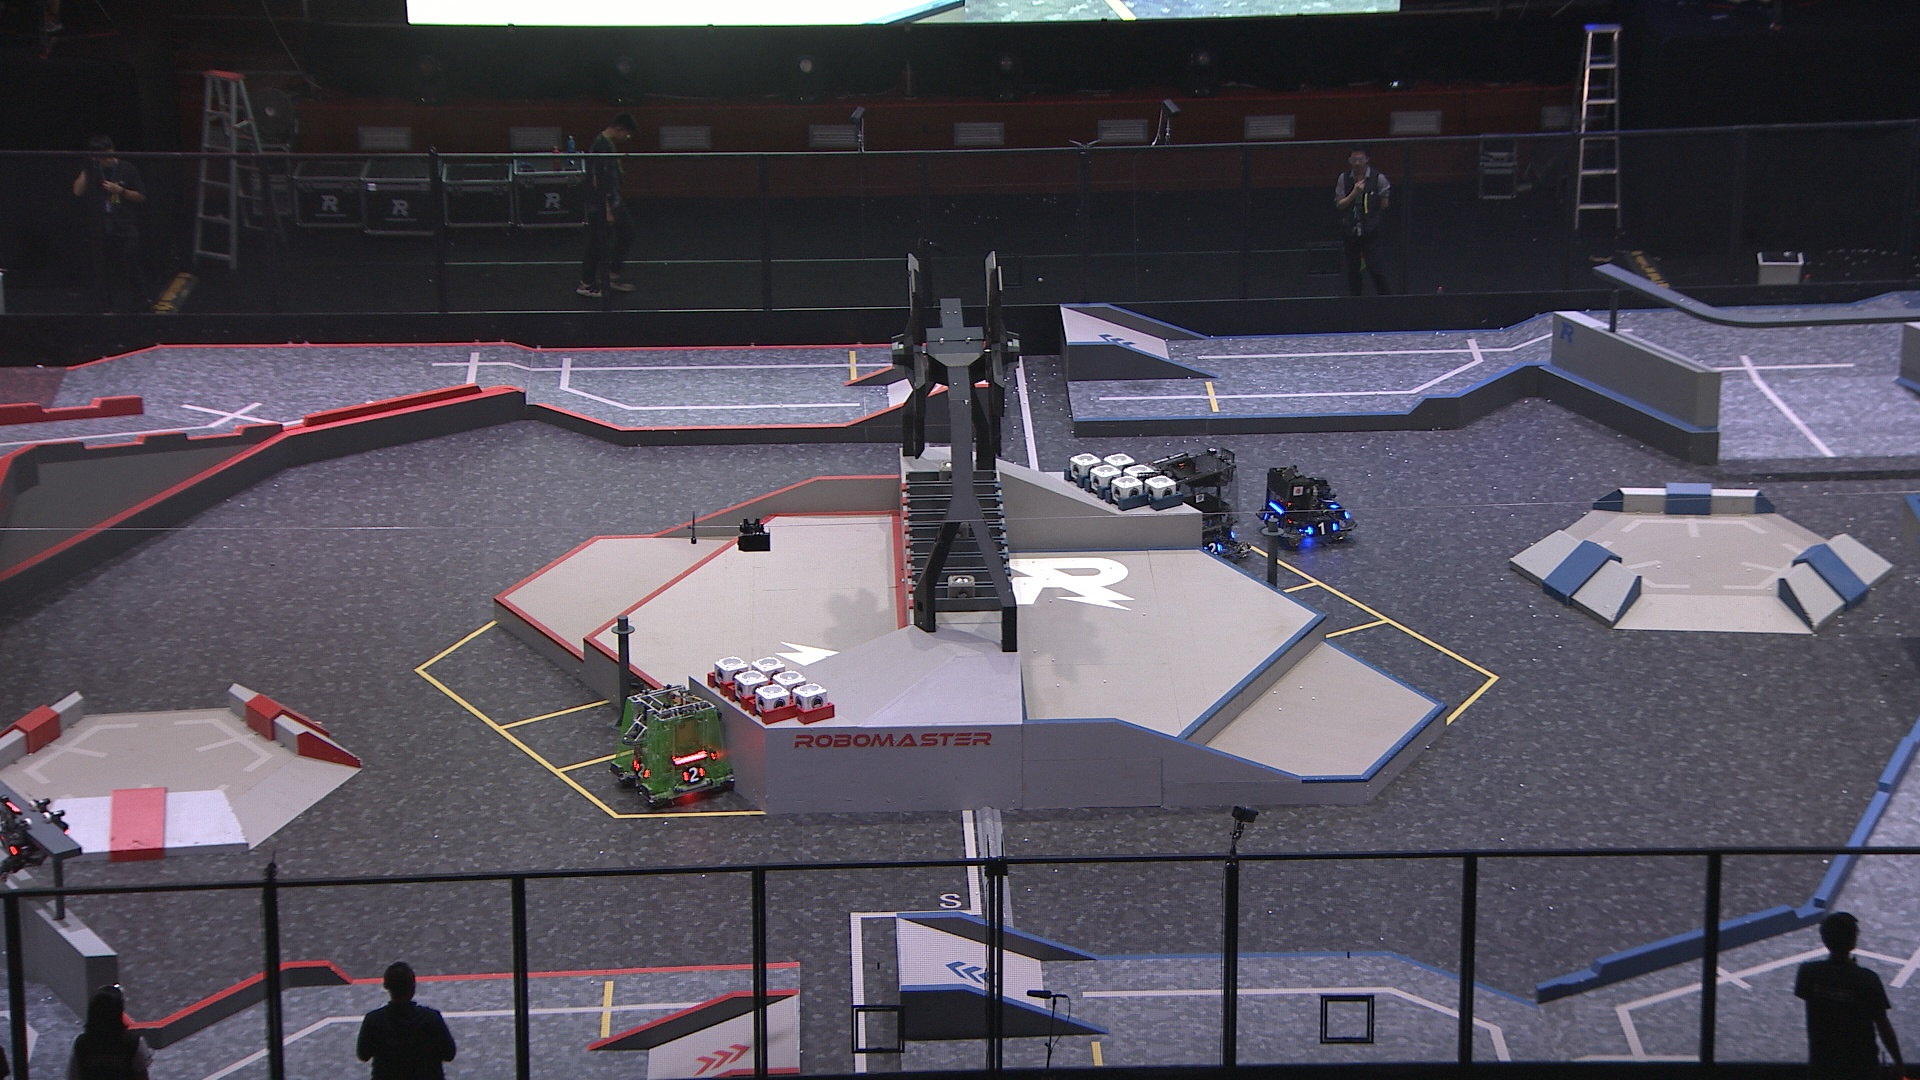armor: (1305, 520, 1342, 538), (632, 760, 655, 782), (680, 765, 707, 783), (1320, 496, 1342, 514), (1205, 541, 1225, 556), (1263, 510, 1278, 526)
car: (611, 683, 736, 808), (1149, 448, 1251, 568), (1253, 462, 1360, 553)
